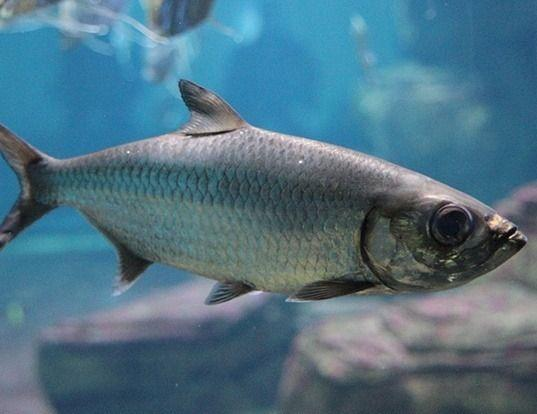Indo-Pacific Tarpon: (0, 78, 529, 307)
